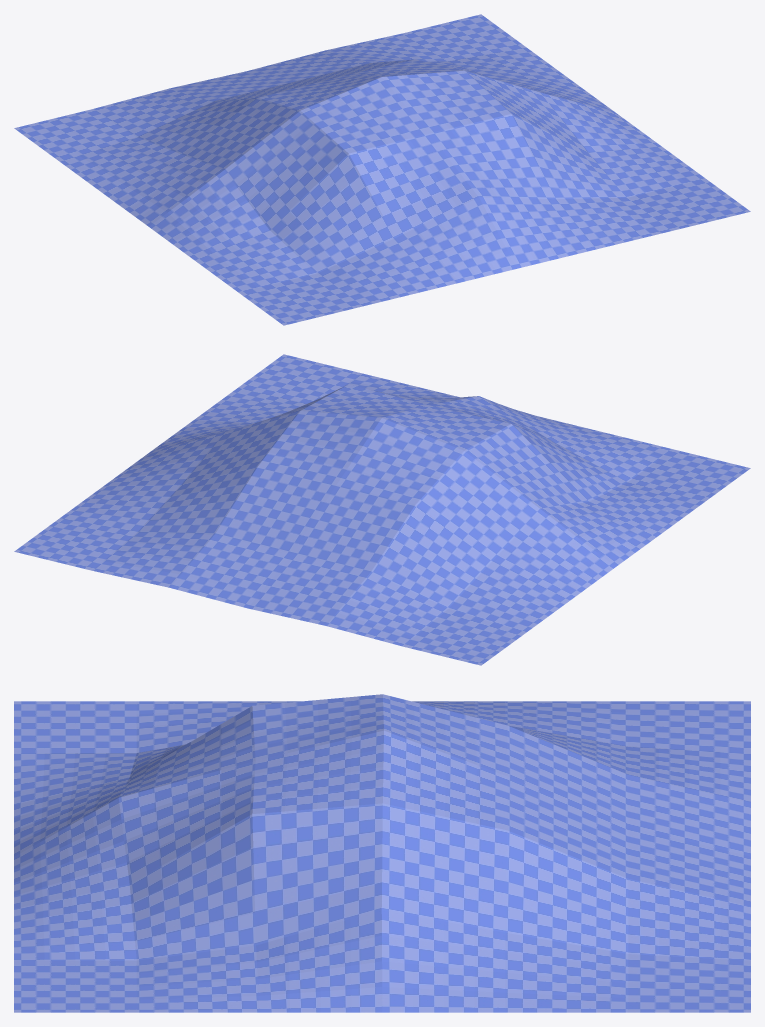
The model's file is test_relief.fbx.
3 views of the same model, one above another, from view 1: azimuth 30°, elevation 25°; view 2: azimuth 150°, elevation 25°; view 3: azimuth 270°, elevation 25° (orthographic). The views are drawn at different scales.
Visible parts, largest first — view 1: Plane; view 2: Plane; view 3: Plane.
Boxes of the visible parts, x1,y1,x2,y2 form: Plane: (14,14,750,325); Plane: (14,354,750,665); Plane: (14,694,750,1012).
Bounding box in the file's own units: 600 × 114 × 600.
